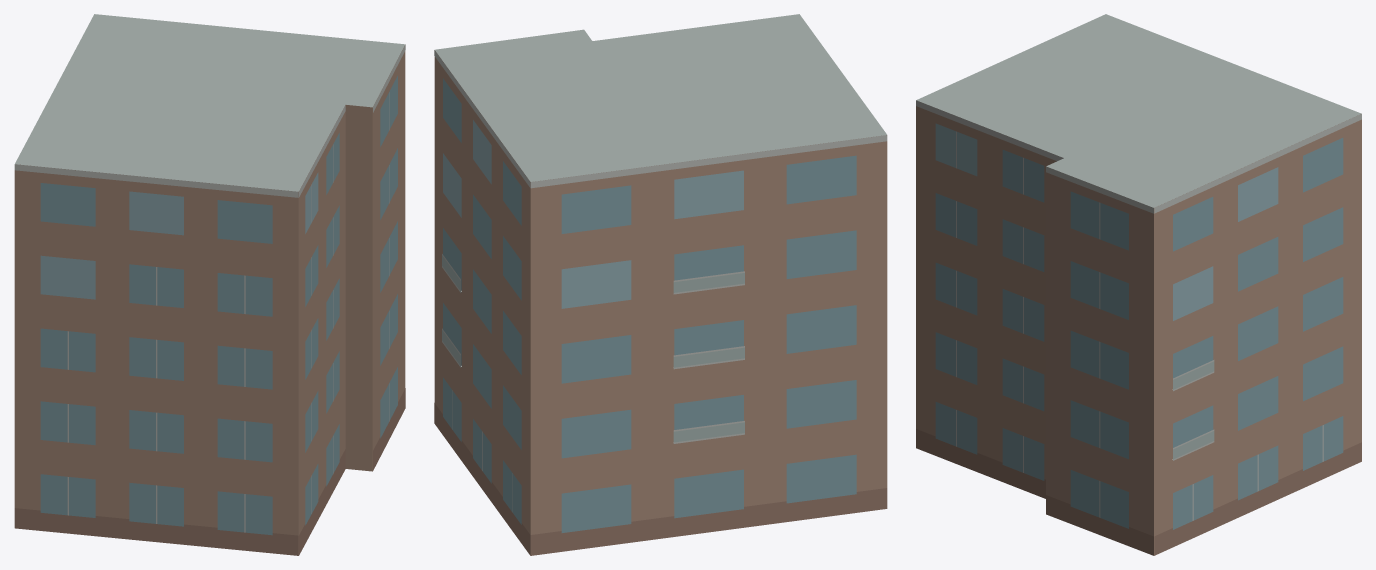
The model's file is survey-upis-32990347.glb.
3 views of the same model, side by side, from view 1: azimuth 30°, elevation 25°; view 2: azimuth 150°, elevation 25°; view 3: azimuth 270°, elevation 25° (orthographic). The views are drawn at different scales.
Visible parts, largest first — view 1: survey-upis-32990347.tmp; view 2: survey-upis-32990347.tmp; view 3: survey-upis-32990347.tmp.
Part boxes in pixels (x1,y1,x2,y2): survey-upis-32990347.tmp: [14, 14, 405, 555]; survey-upis-32990347.tmp: [434, 14, 887, 555]; survey-upis-32990347.tmp: [916, 14, 1361, 555].
Bounding box in the file's own units: 17.34 × 14.5 × 16.84.
